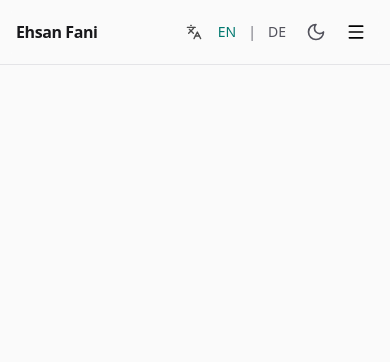
SiteHeader › menu button (below lg) › opens and closes the nav it controls
Click the button named "Menu".
click(356, 32)  # box [338, 14, 374, 50]
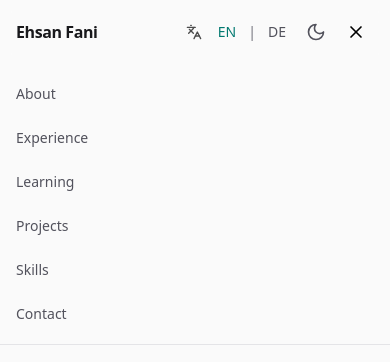
expect the button named "Menu" is expanded: met
Click the button named "Menu".
click(356, 32)  # box [338, 14, 374, 50]
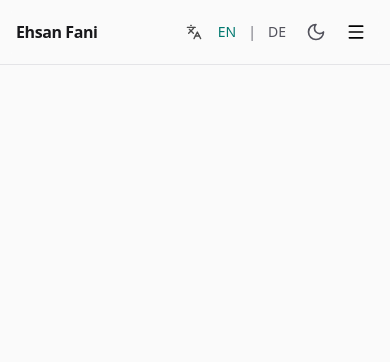
expect the button named "Menu" is collapsed: met, box [338, 14, 374, 50]
